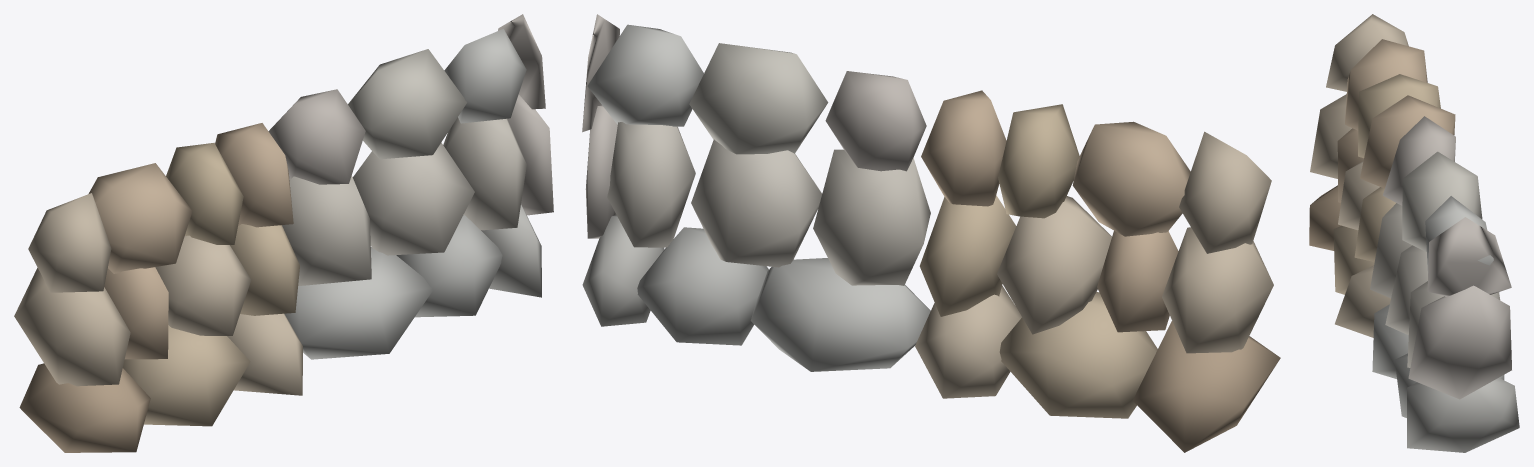
File: farm_-3_-8_near.glb
3 views of the same model, side by side, from view 1: azimuth 30°, elevation 25°; view 2: azimuth 150°, elevation 25°; view 3: azimuth 270°, elevation 25° (orthographic). The views are drawn at different scales.
Parts seen in each view (by area): view 1: geometry_0; view 2: geometry_0; view 3: geometry_0.
Part boxes in pixels (left/top/right/bottom): geometry_0: left=14, top=14, right=553, bottom=452; geometry_0: left=582, top=14, right=1280, bottom=452; geometry_0: left=1309, top=14, right=1519, bottom=452.
Size of the model in its own units: 3.12 by 1.54 by 1.14.
